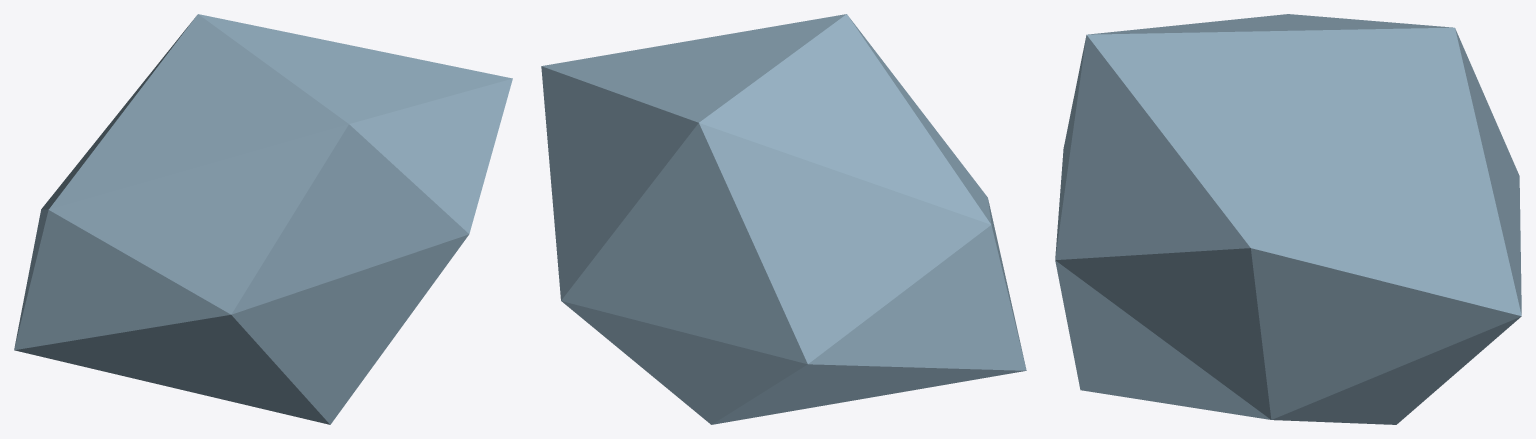
Rendered from rock.glb.
3 views of the same model, side by side, from view 1: azimuth 30°, elevation 25°; view 2: azimuth 150°, elevation 25°; view 3: azimuth 270°, elevation 25° (orthographic). The views are drawn at different scales.
Visible parts, largest first — view 1: Rock; view 2: Rock; view 3: Rock.
Boxes of the visible parts, x1,y1,x2,y2 form: Rock: (14, 14, 512, 424); Rock: (541, 14, 1026, 424); Rock: (1055, 14, 1521, 424).
Bounding box in the file's own units: 0.7977 × 0.4908 × 0.5317.
